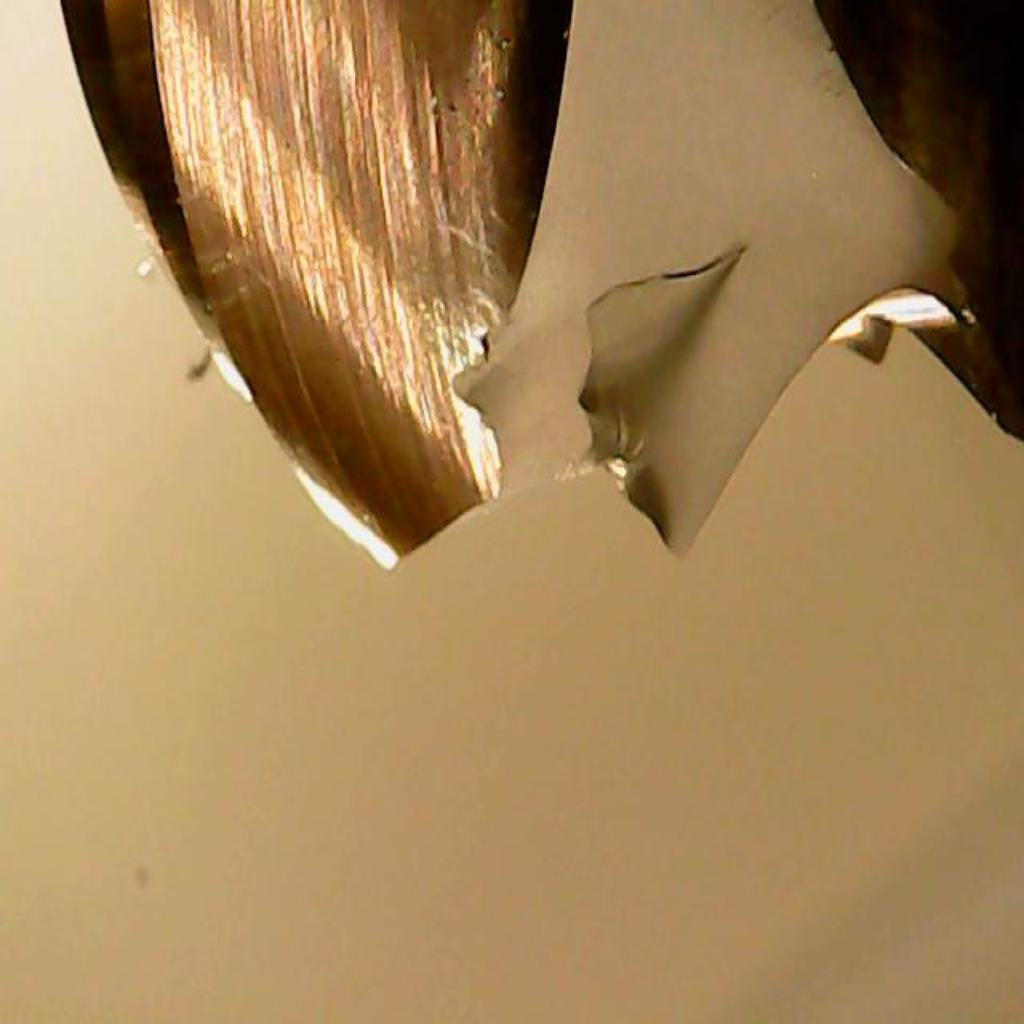Tool-wear-class-2: (366, 117, 586, 547)
